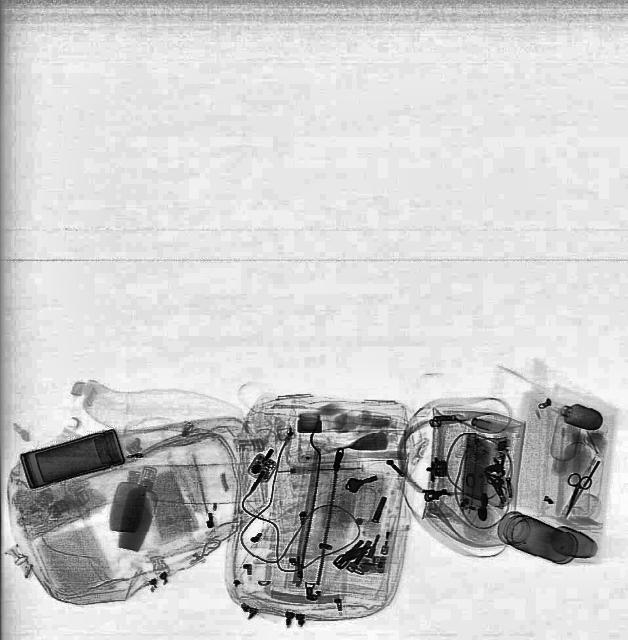Scissors: (558, 471, 592, 519)
